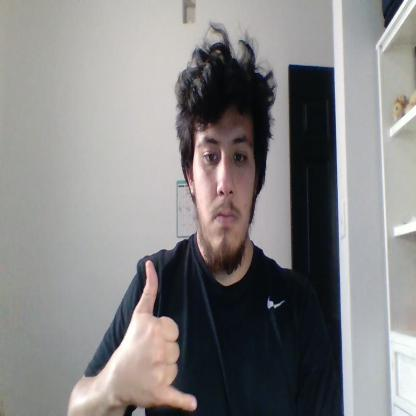Y: (124, 260, 197, 412)
